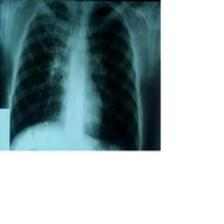tuberculosis: (7, 0, 144, 150)
